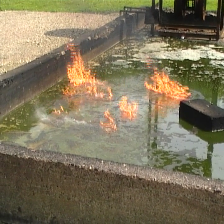fire_h: (63, 39, 114, 100), (144, 57, 191, 100), (119, 96, 138, 120)
fire_l: (99, 110, 117, 132), (53, 105, 66, 114)
